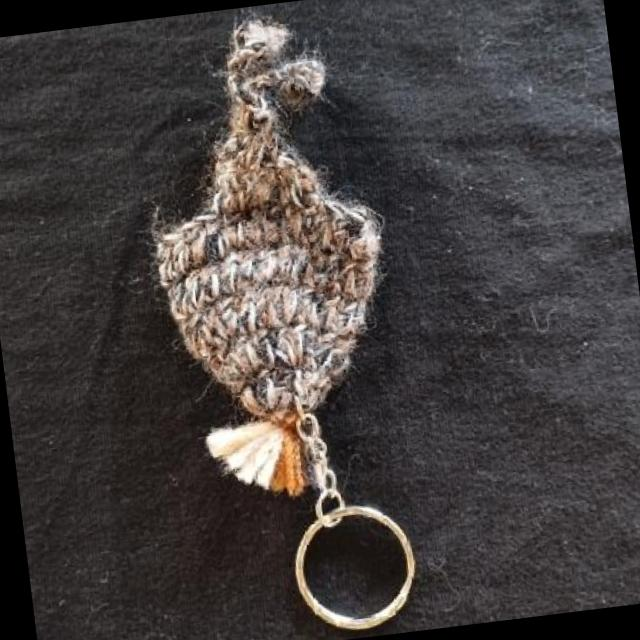Llavero: (125, 0, 416, 511)
